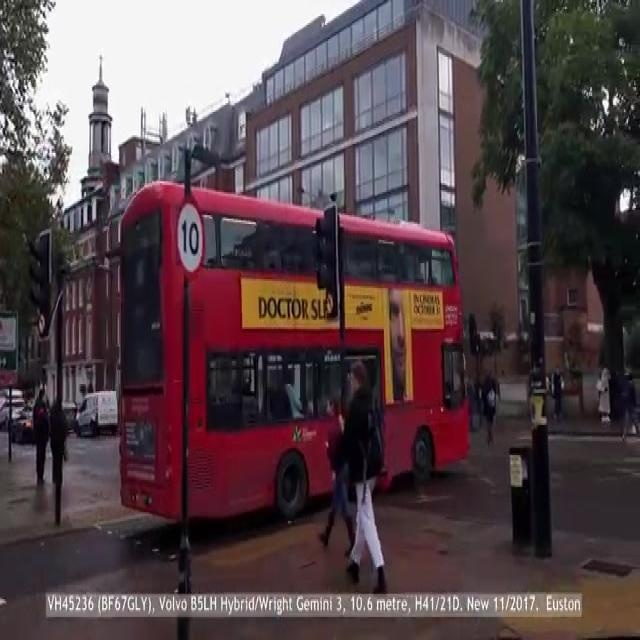Bus: (112, 192, 477, 523)
